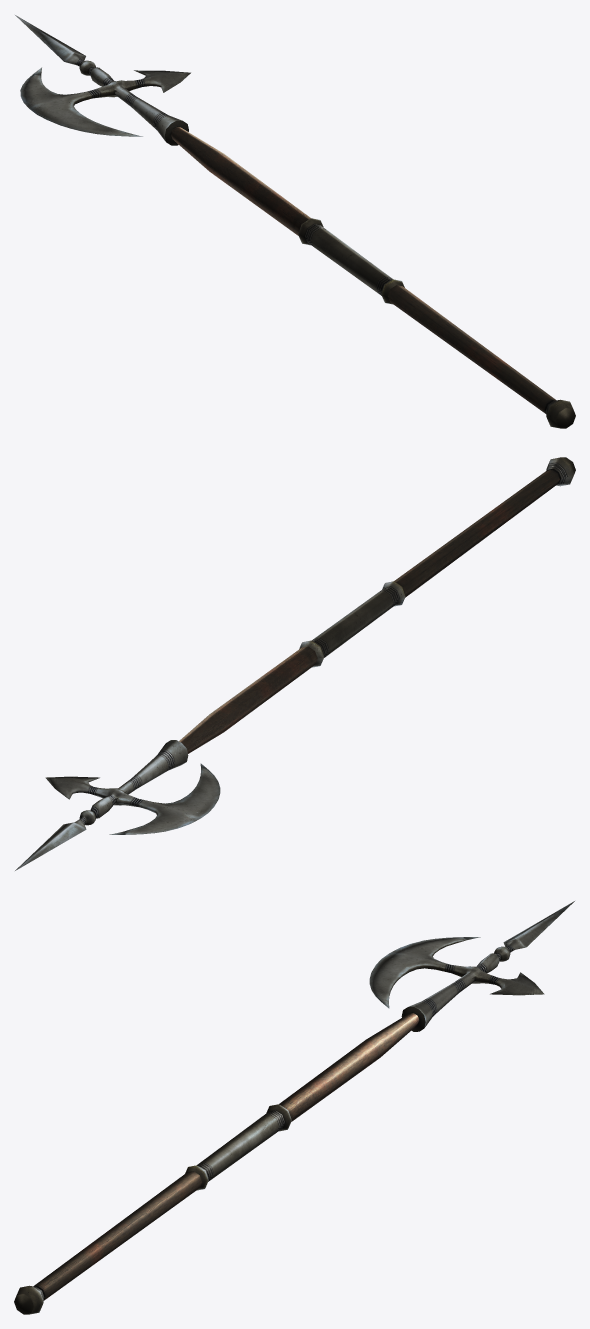
File: Halberd_B.FBX
3 renders of one model, top to bottom at view 1: azimuth 30°, elevation 25°; view 2: azimuth 150°, elevation 25°; view 3: azimuth 330°, elevation 25°, orthographic.
Visible parts, largest first — view 1: Halberd_B; view 2: Halberd_B; view 3: Halberd_B.
Part boxes in pixels (box(x1,y1,x2,y2)): Halberd_B: box(15, 15, 575, 428); Halberd_B: box(15, 457, 575, 870); Halberd_B: box(14, 901, 574, 1314).
Bounding box in the file's own units: 39.91 × 6.92 × 241.
